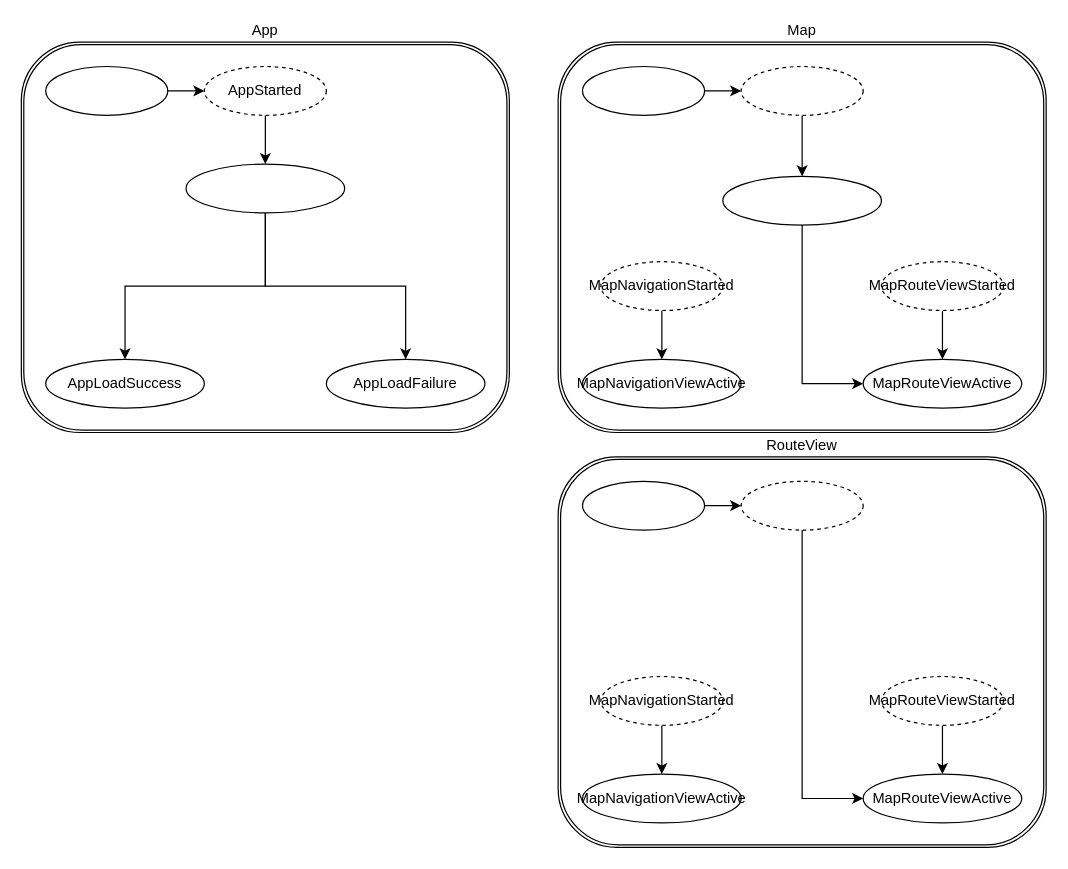
Image size: 1068x869. Some labels were removed from this diagram. Here are the shapes that lost their labels. From the top down, the centre of each, then its label:
At point 106,90: "AppInitial".
At point 643,90: "MapInitial".
At point 801,90: "MapStarted".
At point 265,188: "AppLoadInProgress".
At point 801,200: "MapLoadInProgress".
At point 643,505: "RouteViewInitial".
At point 801,505: "RouteViewStarted".
